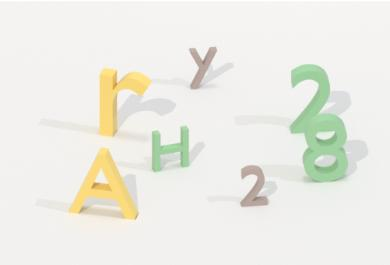2: (287, 61, 331, 135), (236, 162, 271, 210)
8: (302, 111, 351, 185)
A: (67, 144, 145, 223)
H: (148, 122, 192, 178)
r: (96, 64, 153, 139)
y: (184, 44, 220, 94)
